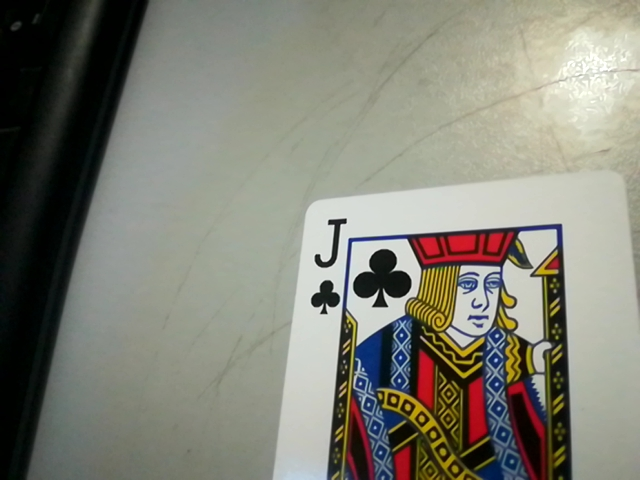mh j: (303, 210, 351, 316)
